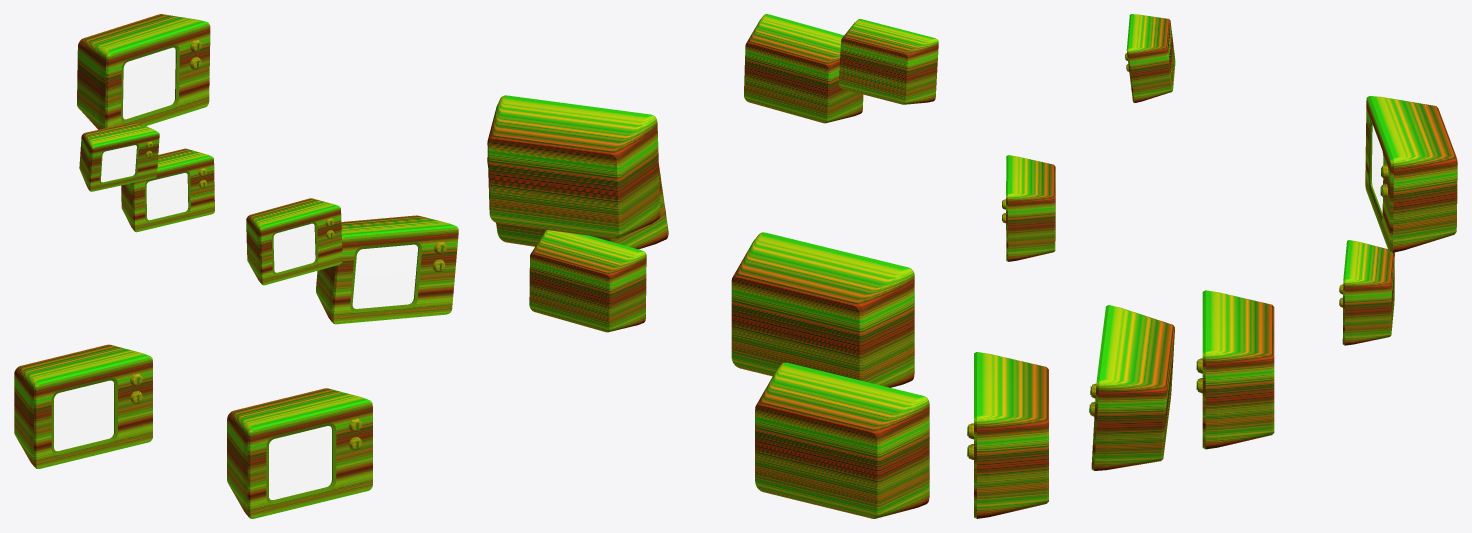
Rendered from teles-retro.Cy4aUkS2.glb.
3 views of the same model, side by side, from view 1: azimuth 30°, elevation 25°; view 2: azimuth 150°, elevation 25°; view 3: azimuth 270°, elevation 25° (orthographic). The views are drawn at different scales.
Visible parts, largest first — view 1: Tele_1, Tele_3, Tele_7, Tele_4, Tele_2, Tele_6, Tele_5; view 2: Tele_1, Tele_3, Tele_7, Tele_6, Tele_2, Tele_5, Tele_4; view 3: Tele_7, Tele_1, Tele_4, Tele_3, Tele_2, Tele_6, Tele_5.
Boxes of the visible parts, x1,y1,x2,y2 form: Tele_1: (227, 388, 372, 518); Tele_3: (14, 344, 152, 468); Tele_7: (77, 14, 210, 129); Tele_4: (316, 215, 458, 324); Tele_2: (246, 198, 342, 285); Tele_6: (121, 148, 214, 232); Tele_5: (79, 122, 159, 191); Tele_1: (731, 232, 914, 387); Tele_3: (755, 362, 929, 518); Tele_7: (487, 95, 660, 238); Tele_6: (529, 230, 646, 332); Tele_2: (744, 14, 863, 123); Tele_5: (838, 19, 938, 104); Tele_4: (487, 156, 668, 249); Tele_7: (1365, 96, 1457, 252); Tele_1: (967, 352, 1048, 518); Tele_4: (1089, 305, 1174, 470); Tele_3: (1196, 290, 1274, 449); Tele_2: (1002, 155, 1055, 261); Tele_6: (1339, 240, 1394, 345); Tele_5: (1125, 14, 1175, 102).
Size of the model in its own units: 1.34 by 1.17 by 1.33.
Materials: 8 (1 with a texture image).
